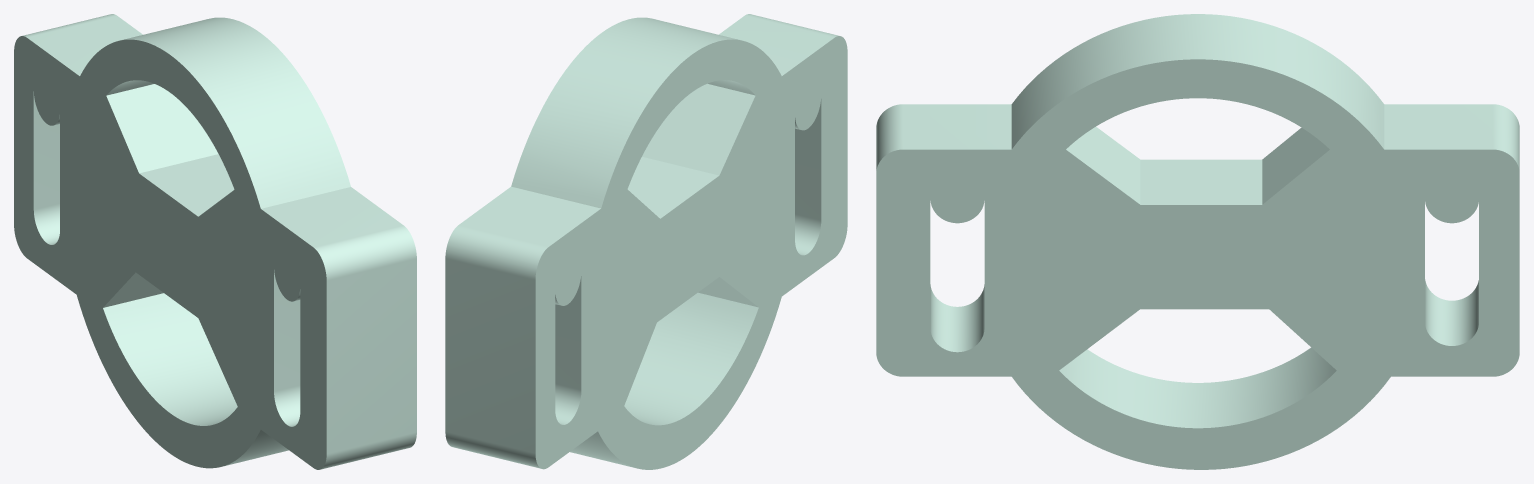
The picture shows the model from 3 angles, left to right: view 1: azimuth 30°, elevation 25°; view 2: azimuth 150°, elevation 25°; view 3: azimuth 270°, elevation 25°; orthographic projection. The views are drawn at different scales.
Visible parts, largest first — view 1: Renderer Node; view 2: Renderer Node; view 3: Renderer Node.
Part boxes in pixels (box(x1,y1,x2,y2)): Renderer Node: box(14, 14, 416, 469); Renderer Node: box(445, 14, 847, 469); Renderer Node: box(876, 14, 1519, 469).
Size of the model in its own units: 0.25 by 1.06 by 1.5.
